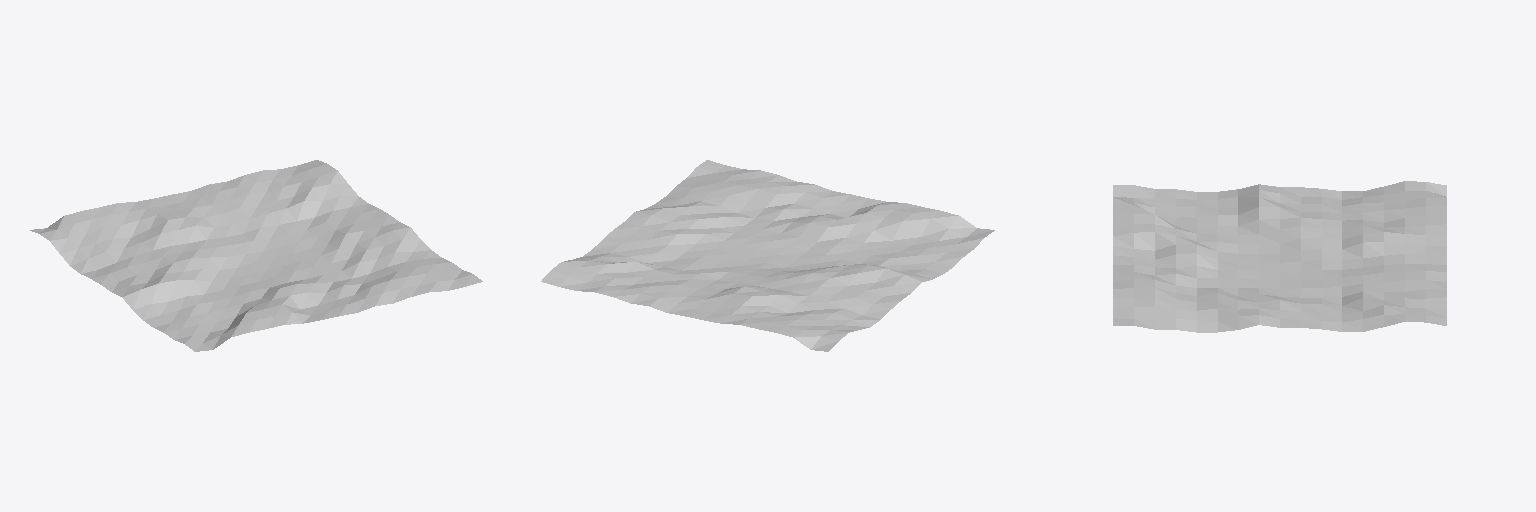
File: rock_floor.obj
The picture shows the model from 3 angles: view 1: azimuth 30°, elevation 25°; view 2: azimuth 150°, elevation 25°; view 3: azimuth 270°, elevation 25°; orthographic projection.
Visible parts, largest first — view 1: Plane; view 2: Plane; view 3: Plane.
Boxes of the visible parts, x1=… form: Plane: x1=30, y1=160, x2=482, y2=351; Plane: x1=541, y1=160, x2=994, y2=351; Plane: x1=1113, y1=181, x2=1446, y2=332.
Size of the model in its own units: 2 by 0.0946 by 2.